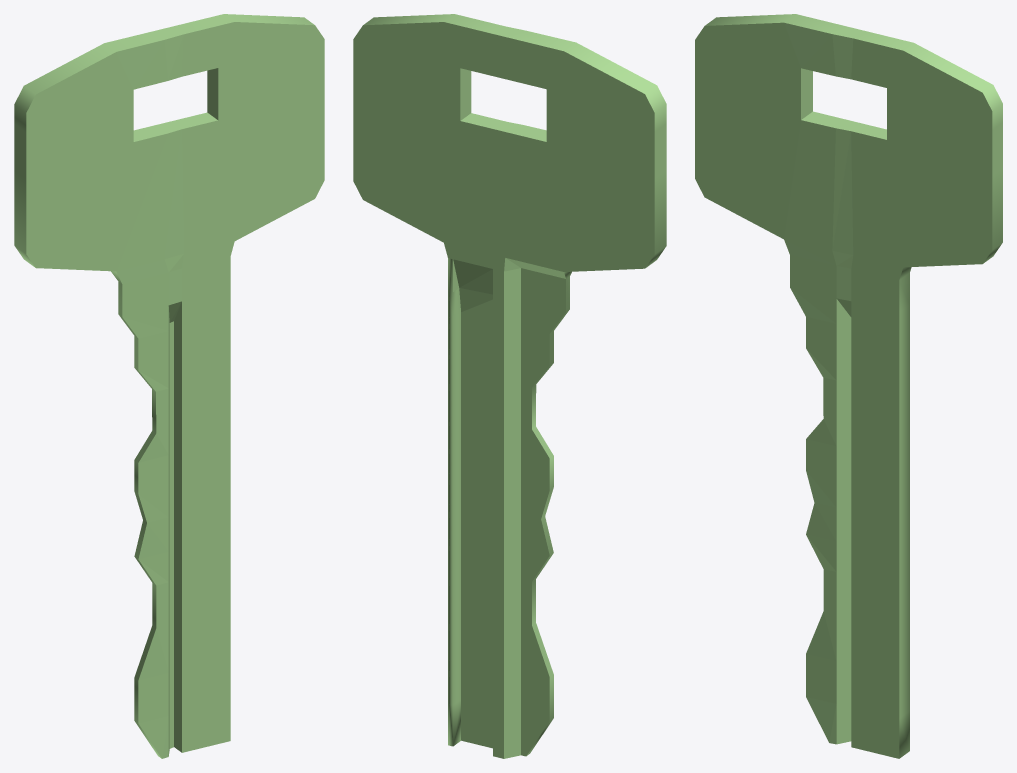
Rendered from Keys_17.FBX.
3 views of the same model, side by side, from view 1: azimuth 30°, elevation 25°; view 2: azimuth 150°, elevation 25°; view 3: azimuth 330°, elevation 25° (orthographic).
Parts seen in each view (by area): view 1: Keys_17; view 2: Keys_17; view 3: Keys_17.
Boxes of the visible parts, box(x1,y1,x2,y2) form: Keys_17: box(14, 14, 324, 758); Keys_17: box(353, 14, 666, 758); Keys_17: box(695, 14, 1002, 758).
Bounding box in the file's own units: 1.18 × 2.71 × 0.082.
